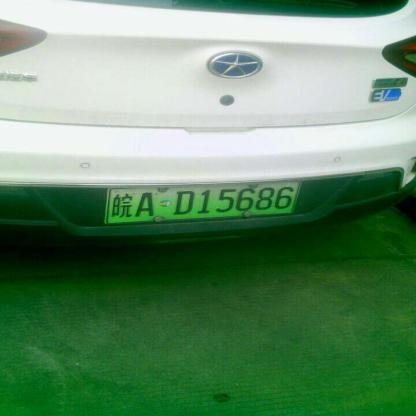lp: (106, 180, 300, 224)
